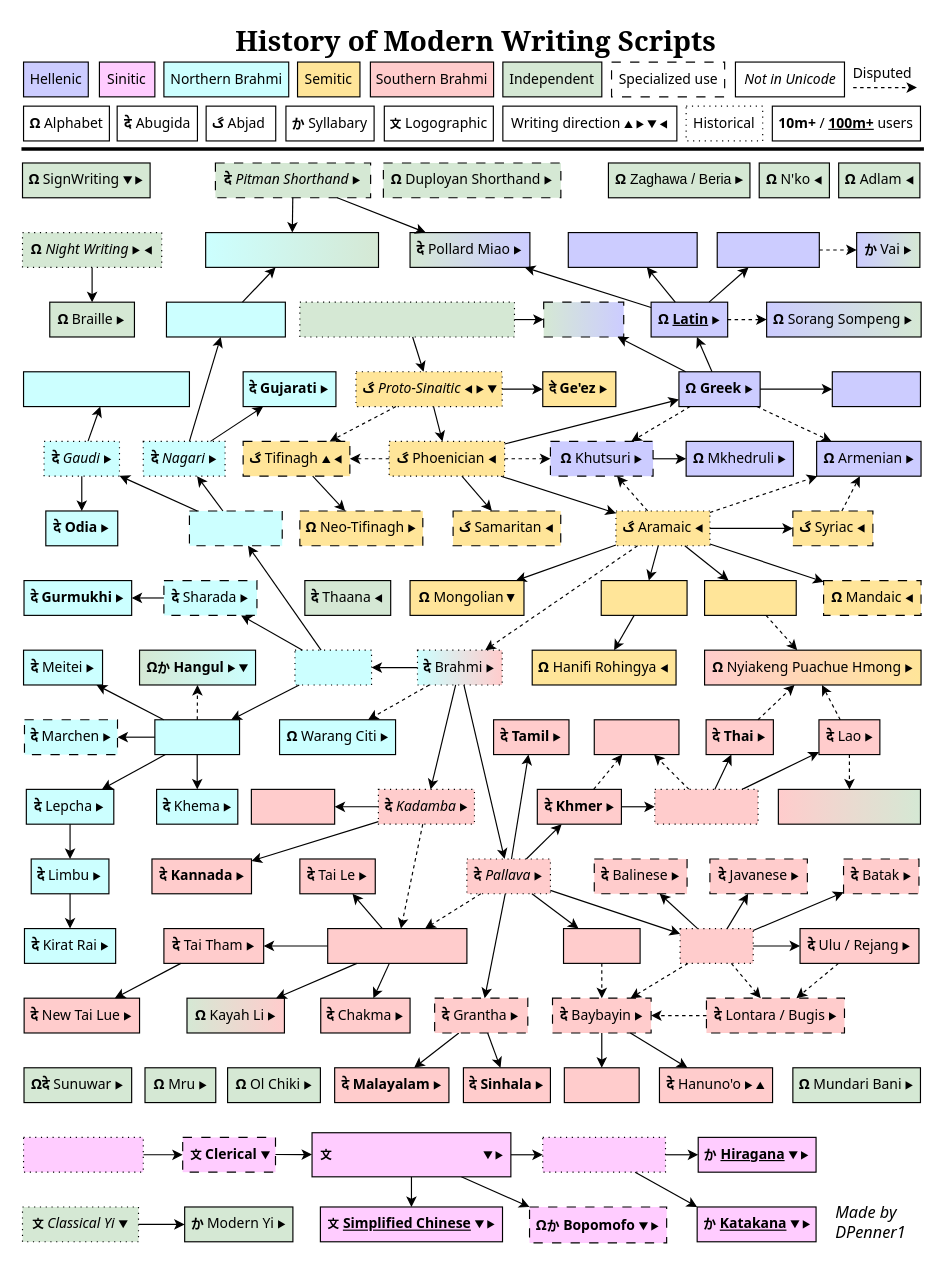
This 947x1263 diagram has some shape labels left out. The box of each missing label's shape, as (x1, y1, x2, y2) in pixels:
Traditional Chinese (Hanzi / Kanji / Hanja): (311, 1132, 511, 1177)
Ω Coptic ▶: (543, 301, 624, 337)
Ω Cyrillic ▶: (831, 371, 920, 407)
Ω दे Fraser / Lisu ▶: (567, 231, 697, 267)
گ Arabic ◀: (600, 579, 687, 615)
گ Hebrew ◀: (703, 579, 796, 615)
दे Bengali–Assamese ▶: (22, 371, 189, 407)
दे Buhid ▶: (563, 1067, 639, 1103)
दे Canadian Aboriginal ▶: (205, 231, 379, 267)
दे Cham ▶: (562, 927, 640, 963)
दे Devanagari ▶: (165, 301, 285, 337)
दे Gupta ▶: (294, 649, 372, 685)
दे Kawi ▶: (679, 927, 753, 963)
दे Mon –Burmese ▶: (327, 927, 467, 963)
दे Pahawh Hmong ▶: (777, 788, 920, 824)
दे Siddham ▶: (188, 510, 282, 546)
दे Sukhothai ▶: (654, 788, 758, 824)
दे Tai Viet ▶: (593, 719, 679, 755)
दे Telugu ▶: (250, 788, 335, 824)
दे Tibetan ▶: (154, 719, 240, 755)
か Cherokee ▶: (716, 231, 819, 267)
か Man'yogana ▼: (542, 1136, 665, 1172)
文 Oracle Bone ▼: (22, 1136, 143, 1172)
文 گ Egyptian Hieroglyphs ◀ ▶ ▼: (299, 301, 514, 337)
